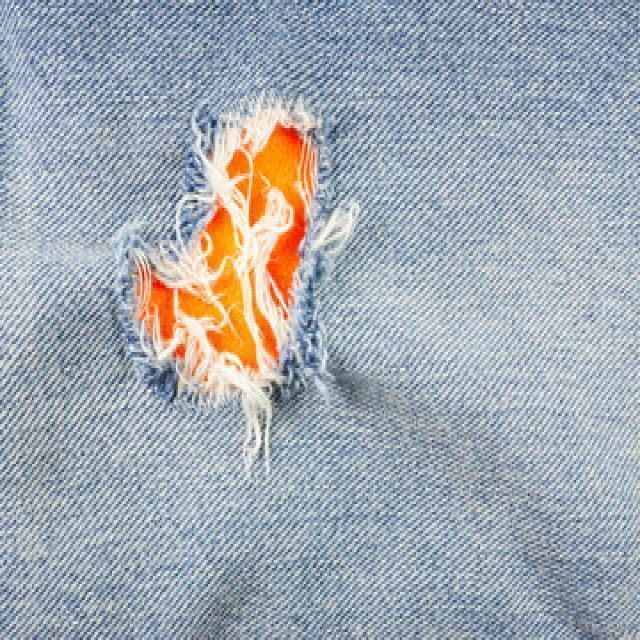Hole: (116, 98, 330, 418)
